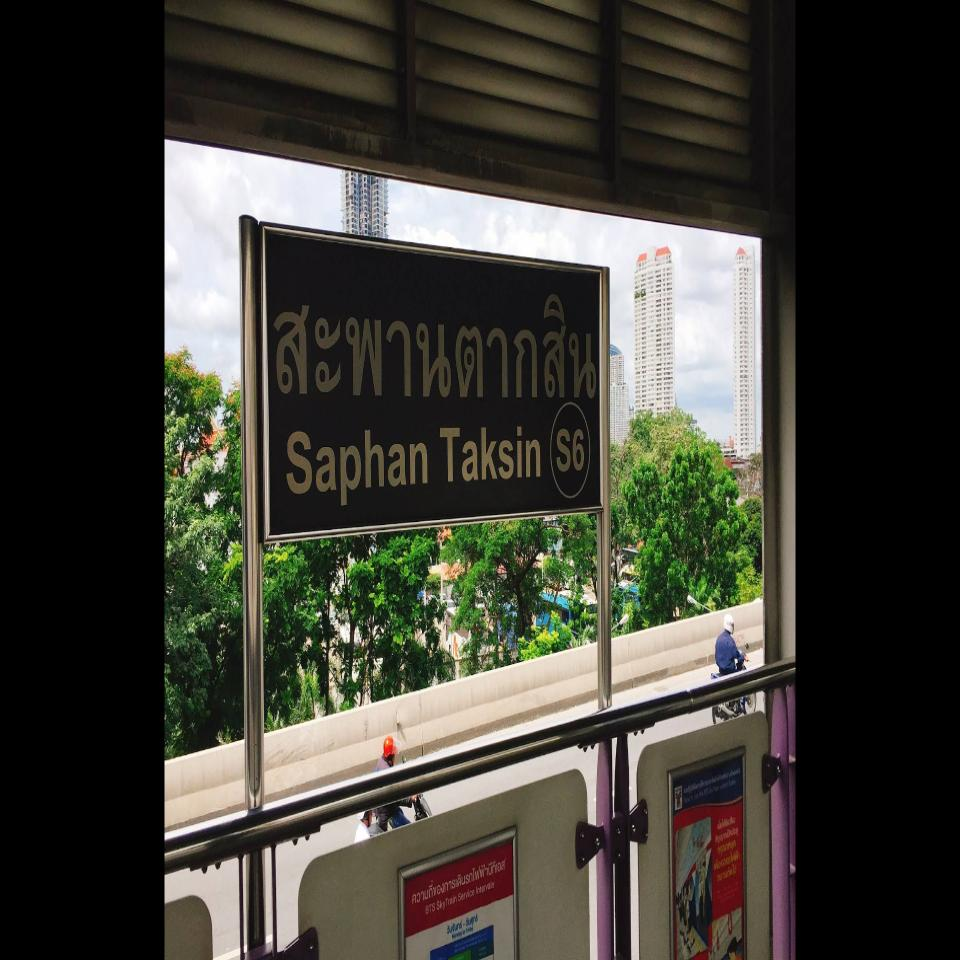signage: (256, 220, 606, 543)
